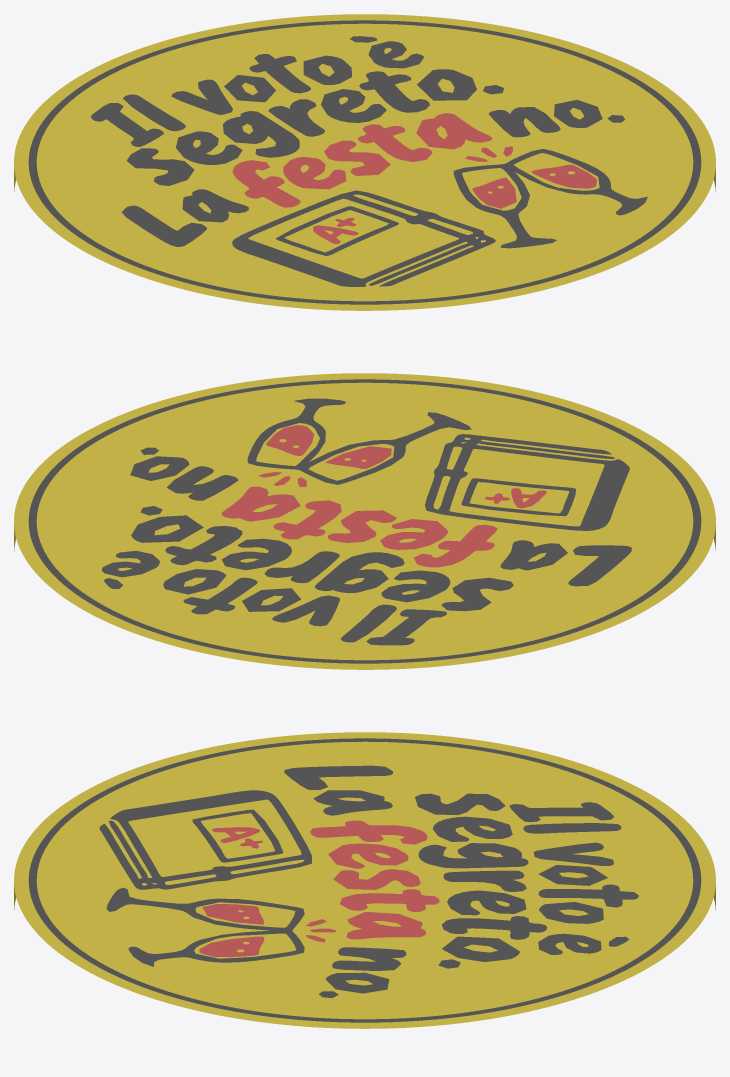
File: sottobicchiere-voto-segreto.glb
The picture shows the model from 3 angles, top to bottom: view 1: azimuth 30°, elevation 25°; view 2: azimuth 150°, elevation 25°; view 3: azimuth 270°, elevation 25°; orthographic projection.
Visible parts, largest first — view 1: coaster_base, coaster_ink, coaster_accent; view 2: coaster_base, coaster_ink, coaster_accent; view 3: coaster_base, coaster_ink, coaster_accent.
Part boxes in pixels (x1,y1,x2,y2): coaster_base: [14, 14, 715, 310]; coaster_ink: [28, 20, 701, 304]; coaster_accent: [232, 113, 596, 243]; coaster_base: [14, 373, 715, 669]; coaster_ink: [28, 379, 701, 663]; coaster_accent: [221, 425, 546, 567]; coaster_base: [14, 732, 715, 1028]; coaster_ink: [28, 738, 701, 1022]; coaster_accent: [199, 820, 439, 957].
Size of the model in its own units: 0.075 by 0.004 by 0.075.
